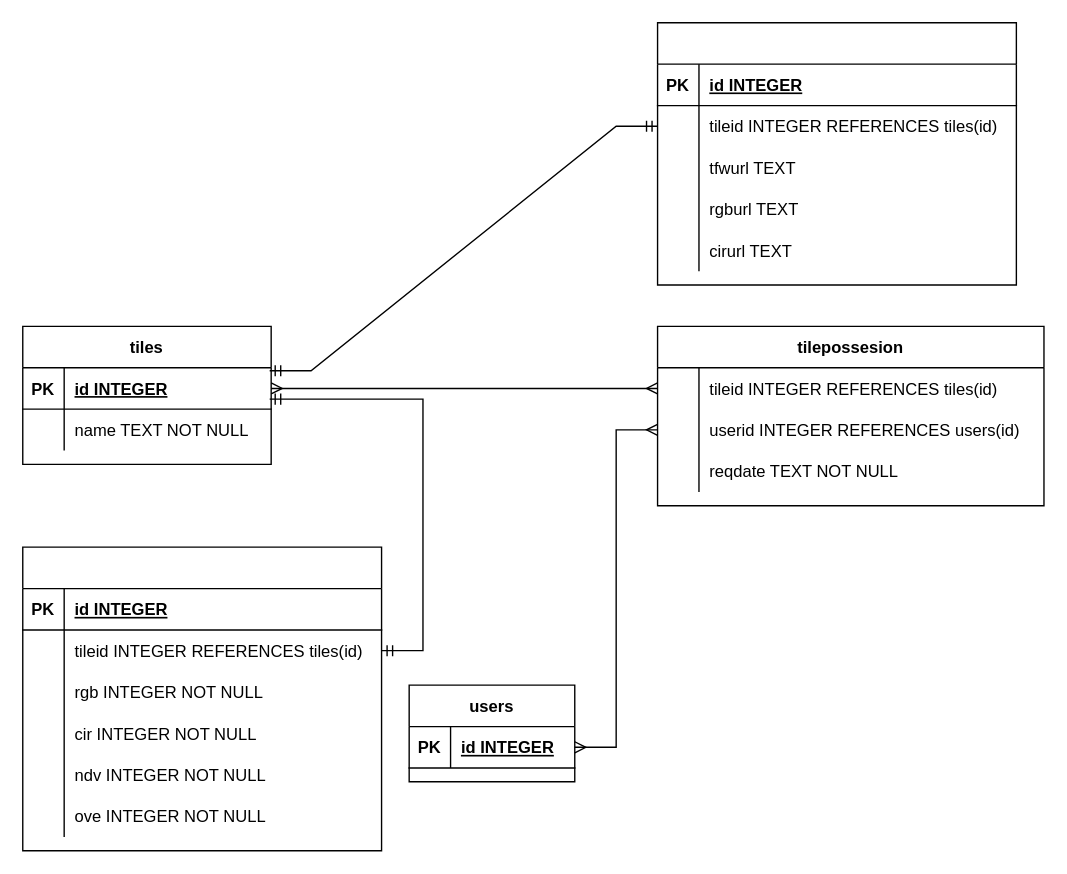
This 1067x874 diagram has some shape labels left out. Each missing label, with the box of its shape:
finishedtiles: (21, 546, 382, 851)
tileurls: (656, 21, 1016, 285)
